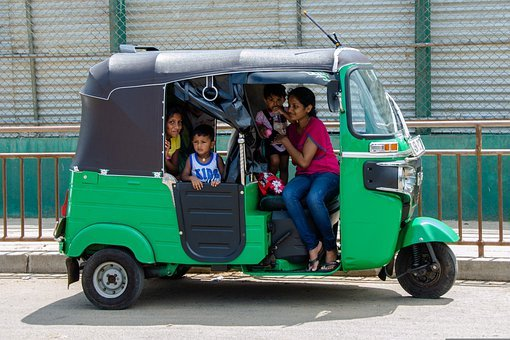threewheel: (55, 45, 461, 310)
